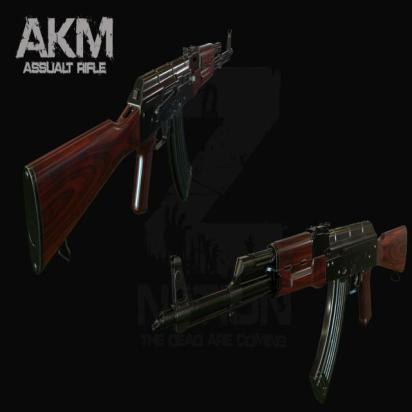Gun: (25, 22, 236, 284), (150, 215, 410, 411)
